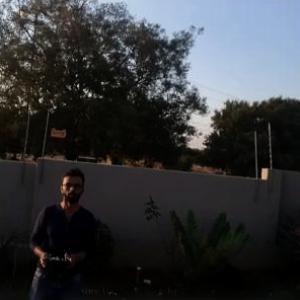follow: (22, 166, 100, 299)
